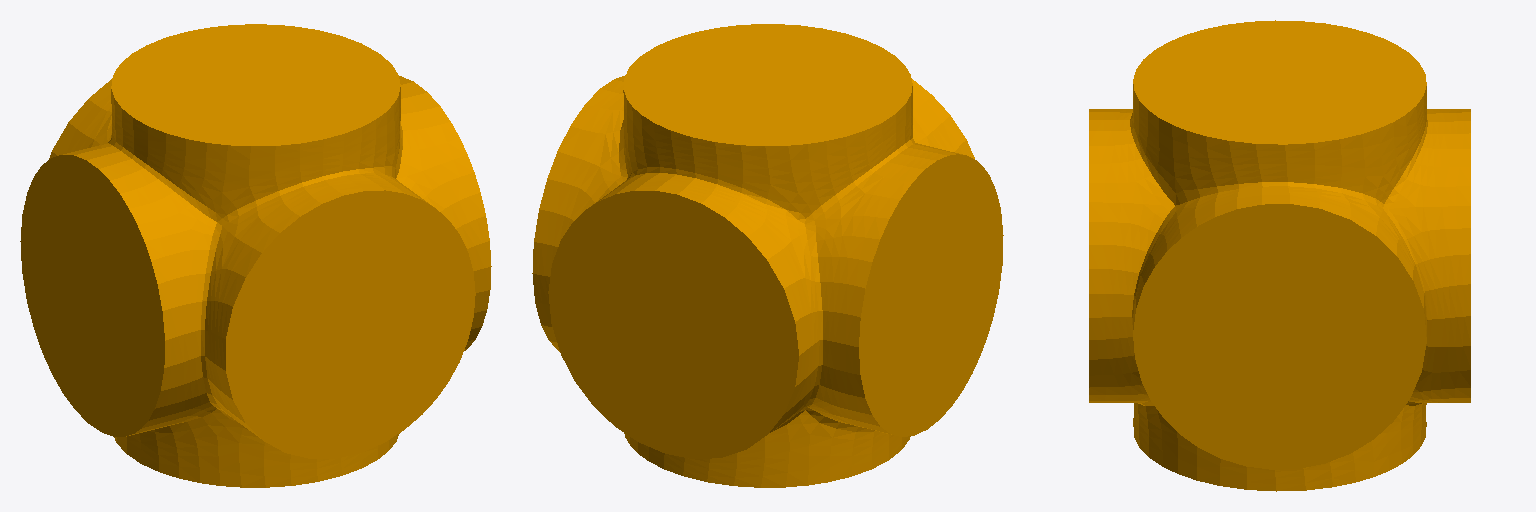
URDF robot description (object):
<robot name="object">
  <link name="object">
    <visual>
      <origin xyz="0 0 0"/>
      <geometry>
        <mesh filename="visual.obj" scale="1 1 1"/>
      </geometry>
    </visual>
    <collision>
      <origin xyz="0 0 0"/>
      <geometry>
        <mesh filename="visual.obj" scale="1 1 1"/>
      </geometry>
    </collision>
    <inertial>
      <mass value="0.05"/>
      <inertia ixx="5.970680533721641e-05" iyy="5.971594387080264e-05" izz="5.969265387475951e-05" ixy="7.499920807100418e-09" ixz="2.264818418692335e-09" iyz="1.8487880593786756e-11"/>
    </inertial>
  </link>
</robot>

--- What the picture shows (computed from the rendered views, not written in the file) ---
The picture shows the robot from 3 angles, left to right: view 1: azimuth 30°, elevation 25°; view 2: azimuth 150°, elevation 25°; view 3: azimuth 270°, elevation 25°; orthographic projection.
Robot: object — 1 links, 0 joints (none); root link object; default pose: all joints at 0.
Visible links, largest first — view 1: object; view 2: object; view 3: object.
Link boxes in pixels (x1,y1,x2,y2): object: (20, 24, 491, 487); object: (532, 24, 1003, 487); object: (1089, 20, 1470, 491).
Size in the robot's own frame: 0.096 by 0.096 by 0.096 metres.
Meshes: 1 distinct files referenced, 1 mesh visuals loaded (1 OBJ).
